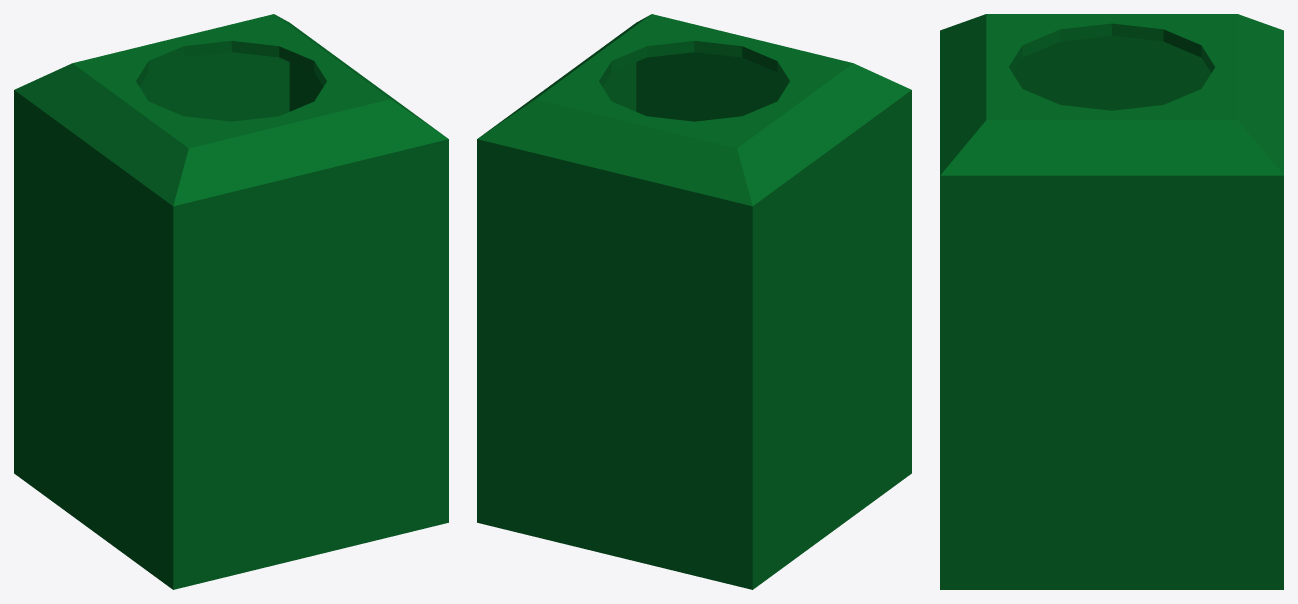
File: trashcan.fbx
The picture shows the model from 3 angles, left to right: view 1: azimuth 30°, elevation 25°; view 2: azimuth 150°, elevation 25°; view 3: azimuth 270°, elevation 25°; orthographic projection. The views are drawn at different scales.
Parts seen in each view (by area): view 1: polySurface1; view 2: polySurface1; view 3: polySurface1.
Part boxes in pixels (x1,y1,x2,y2): polySurface1: [14, 14, 448, 589]; polySurface1: [477, 14, 911, 589]; polySurface1: [940, 14, 1283, 589].
Bounding box in the file's own units: 0.752 × 1.09 × 0.752.
